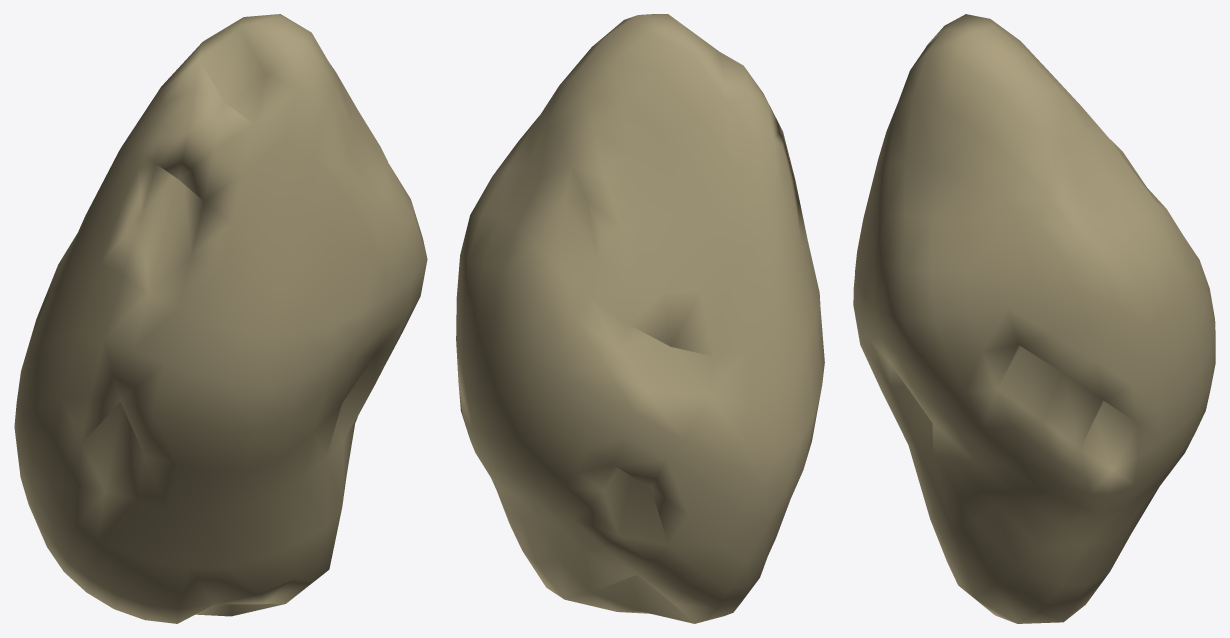
Rendered from potato.fbx.
The picture shows the model from 3 angles, left to right: view 1: azimuth 30°, elevation 25°; view 2: azimuth 150°, elevation 25°; view 3: azimuth 270°, elevation 25°; orthographic projection. The views are drawn at different scales.
Parts seen in each view (by area): view 1: pCube2; view 2: pCube2; view 3: pCube2.
Part boxes in pixels (<box>): pCube2: <box>14,14,427,623</box>; pCube2: <box>456,14,824,623</box>; pCube2: <box>853,14,1215,623</box>.
Size of the model in its own units: 10.07 by 16.85 by 9.51.
